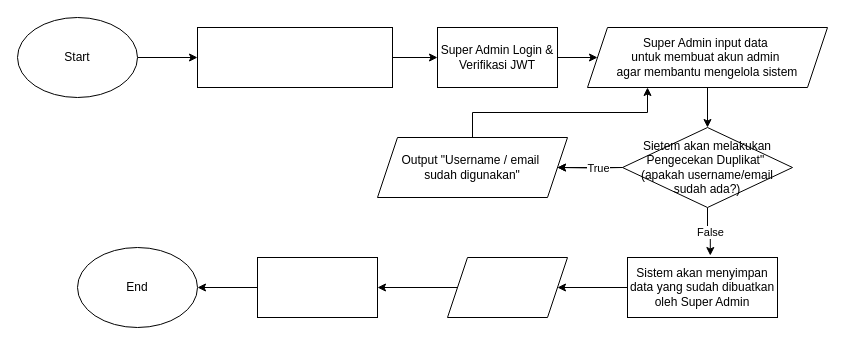
Image size: 845x345. Some labels were removed from this diagram. The box of each missing label's shape, as (x1, y1, x2, y2) in pixels:
Dibuat akun kusus untuk super admin (supaya bisa menambahkan akun admin): (196, 26, 392, 88)
Output "Akun berhasil ditambahkan": (446, 256, 568, 318)
Super Admin akan memberikan data ke admin baru melalui personal chat: (256, 256, 378, 318)
